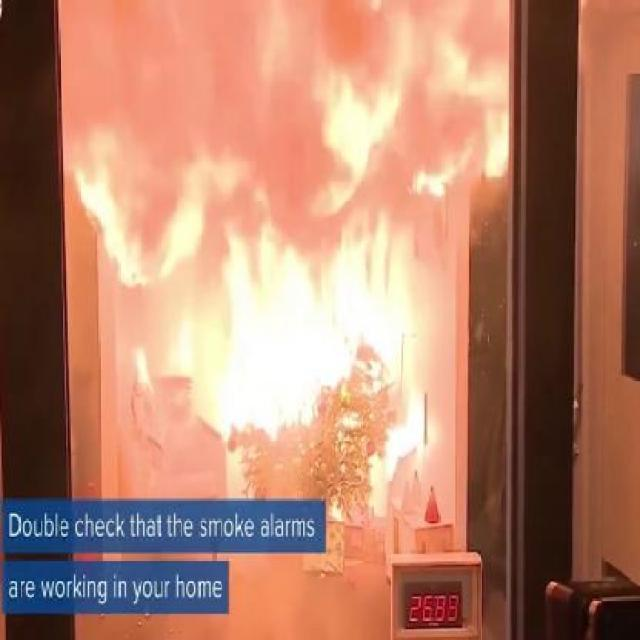fire: (232, 184, 438, 402)
